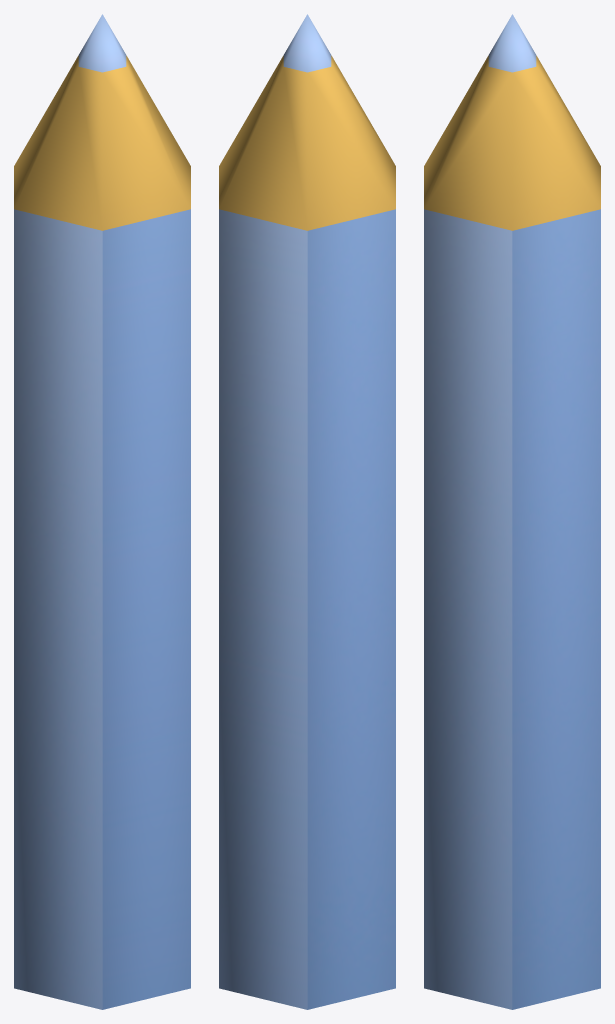
File: SM_Pencil01.fbx
3 renders of one model, left to right at view 1: azimuth 30°, elevation 25°; view 2: azimuth 150°, elevation 25°; view 3: azimuth 270°, elevation 25°, orthographic.
Visible parts, largest first — view 1: SM_Pencil01; view 2: SM_Pencil01; view 3: SM_Pencil01.
Boxes of the visible parts, left/top/right/bottom form: SM_Pencil01: left=14, top=14, right=190, bottom=1009; SM_Pencil01: left=219, top=14, right=395, bottom=1009; SM_Pencil01: left=424, top=14, right=600, bottom=1009.
Bounding box in the file's own units: 8 × 41.19 × 6.93.
